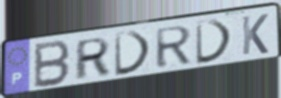B: (32, 39, 72, 90)
D: (112, 30, 154, 78), (194, 18, 235, 67)
K: (241, 12, 270, 57)
R: (154, 24, 194, 71), (73, 35, 112, 82)
